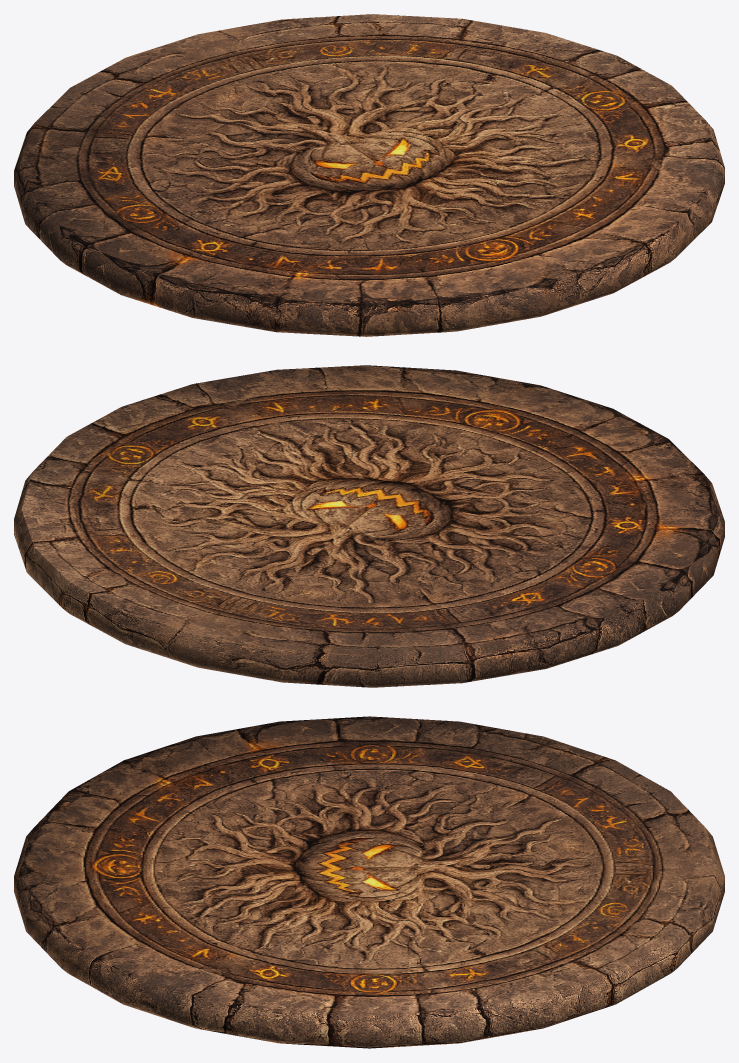
File: Rooftop_Base_Z_Lid.fbx
3 views of the same model, one above another, from view 1: azimuth 30°, elevation 25°; view 2: azimuth 150°, elevation 25°; view 3: azimuth 270°, elevation 25° (orthographic).
Parts seen in each view (by area): view 1: Rooftop_Base_Z_Lid; view 2: Rooftop_Base_Z_Lid; view 3: Rooftop_Base_Z_Lid.
Boxes of the visible parts, x1=… form: Rooftop_Base_Z_Lid: x1=14, y1=14, x2=724, y2=336; Rooftop_Base_Z_Lid: x1=14, y1=365, x2=724, y2=687; Rooftop_Base_Z_Lid: x1=14, y1=716, x2=724, y2=1048.
Size of the model in its own units: 489 by 23.8 by 480.
